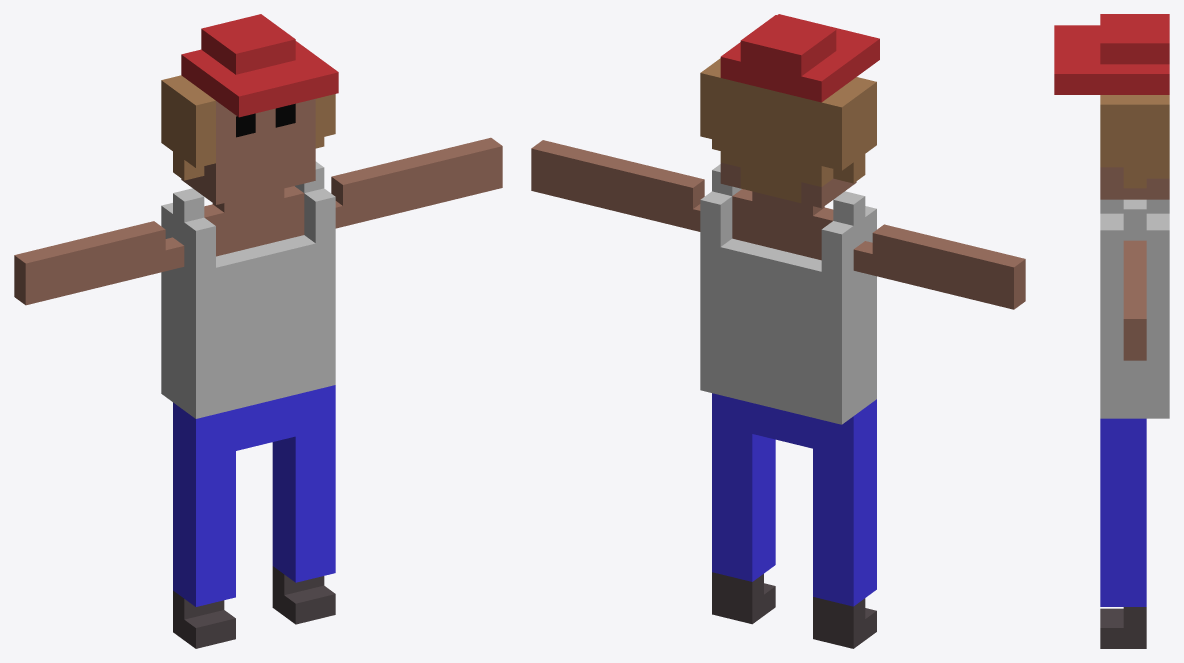
File: personaje_1.glb
The picture shows the model from 3 angles, left to right: view 1: azimuth 30°, elevation 25°; view 2: azimuth 150°, elevation 25°; view 3: azimuth 270°, elevation 25°; orthographic projection.
Visible parts, largest first — view 1: personaje_1; view 2: personaje_1; view 3: personaje_1.
Part boxes in pixels (x1,y1,x2,y2): personaje_1: (14, 14, 502, 648); personaje_1: (531, 14, 1025, 648); personaje_1: (1054, 14, 1169, 648).
Size of the model in its own units: 47.76 by 56 by 10.
